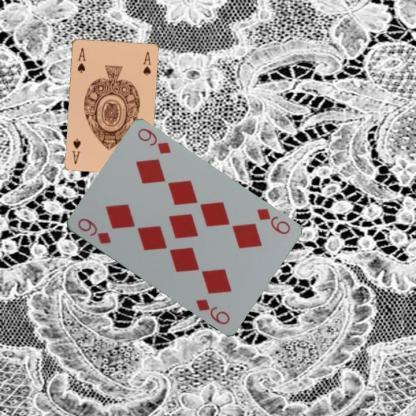9d: (74, 216, 112, 245), (254, 206, 291, 235)
As: (74, 45, 86, 74)
